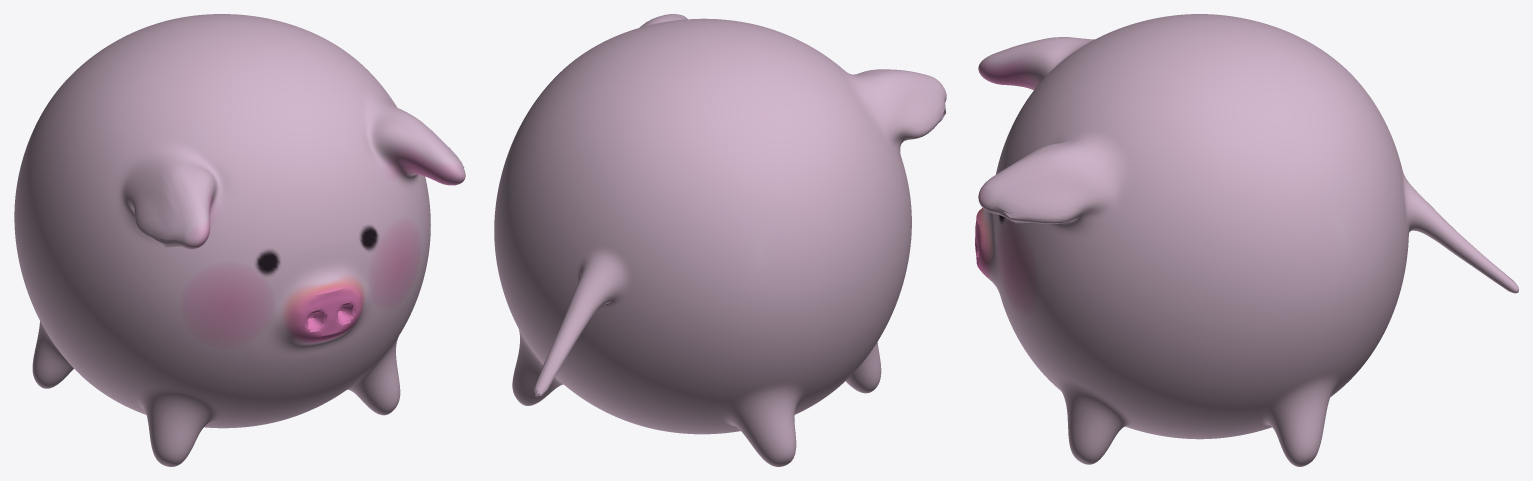
Rendered from pig.glb.
3 views of the same model, side by side, from view 1: azimuth 30°, elevation 25°; view 2: azimuth 150°, elevation 25°; view 3: azimuth 270°, elevation 25° (orthographic). The views are drawn at different scales.
Parts seen in each view (by area): view 1: mesh_0_Mat_0 (×2); view 2: mesh_0_Mat_0 (×2); view 3: mesh_0_Mat_0 (×2).
Part boxes in pixels (x1=…): mesh_0_Mat_0 (×2): x1=14, y1=14, x2=465, y2=466; mesh_0_Mat_0 (×2): x1=494, y1=14, x2=946, y2=466; mesh_0_Mat_0 (×2): x1=975, y1=14, x2=1518, y2=466.
Bounding box in the file's own units: 48.47 × 48.47 × 62.96.
Materials: 1 (1 with a texture image).
